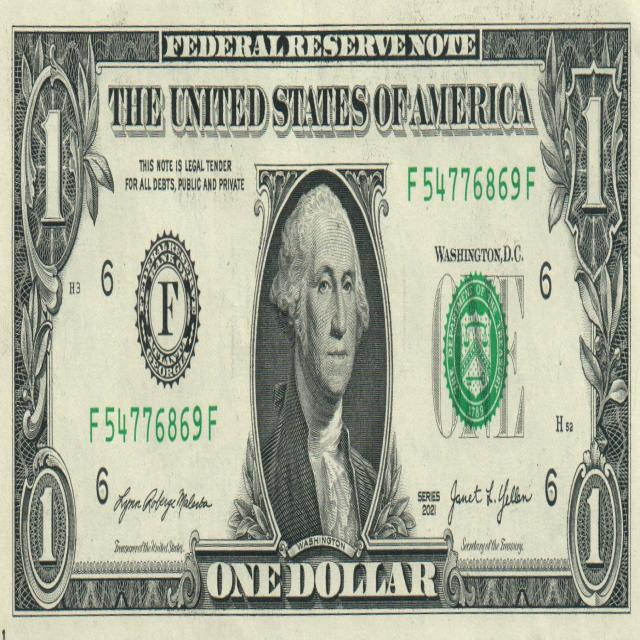SerialNumber: (90, 406, 216, 442), (408, 167, 535, 202)
